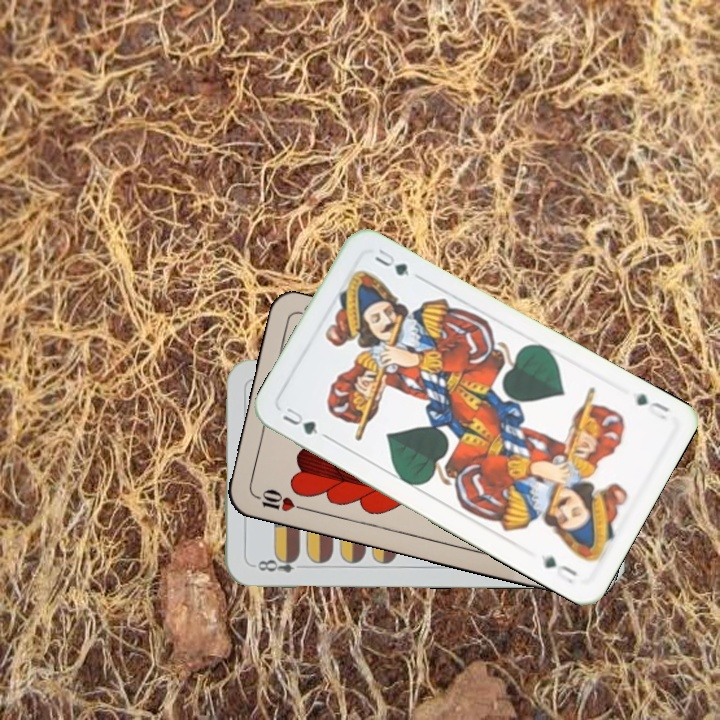E8: (249, 552, 308, 575)
GU: (278, 403, 321, 438), (632, 389, 672, 423)
H10: (249, 485, 308, 514)
